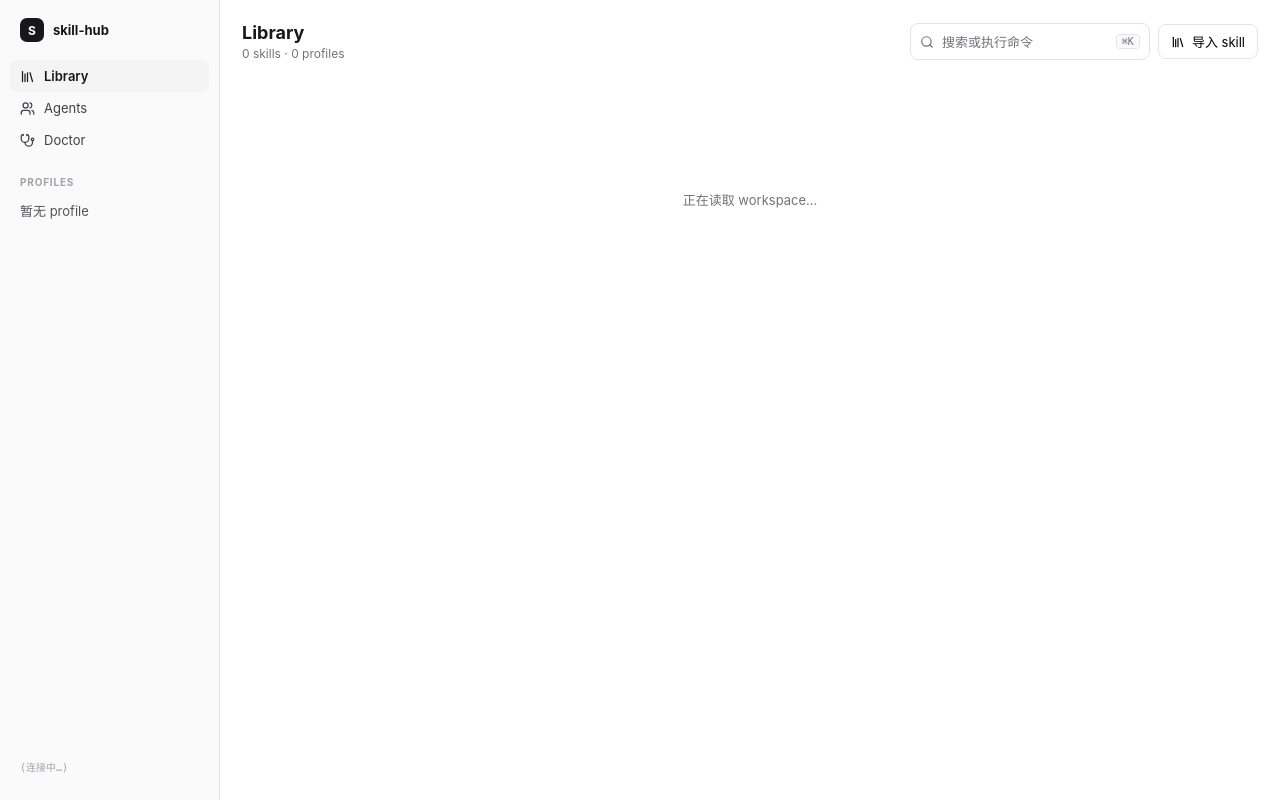
Wave 6 scan local agents › shows a card for managed agents that have no profiles yet
Click the button "Agents": (110, 108) [10,92,209,124]
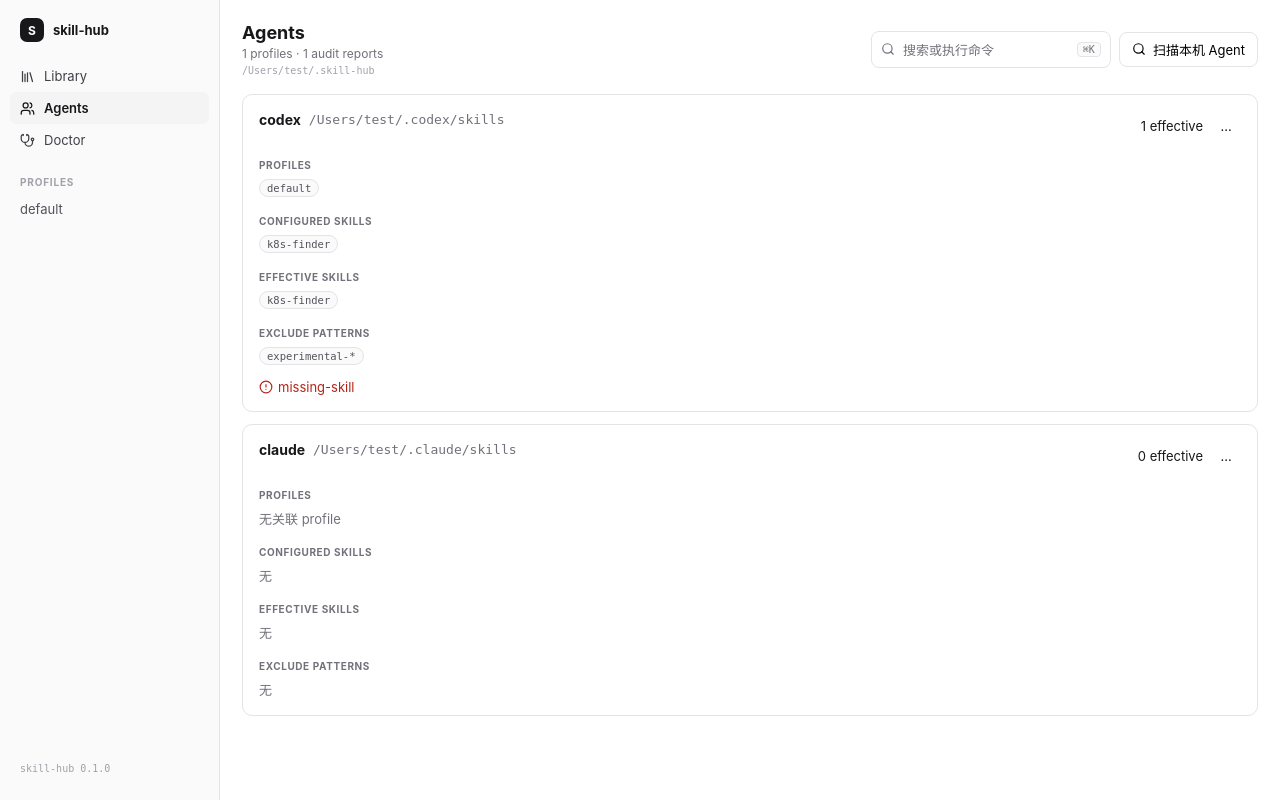
Expected: the element named "Agent claude" shows "无关联 profile", [259,511,341,527]
